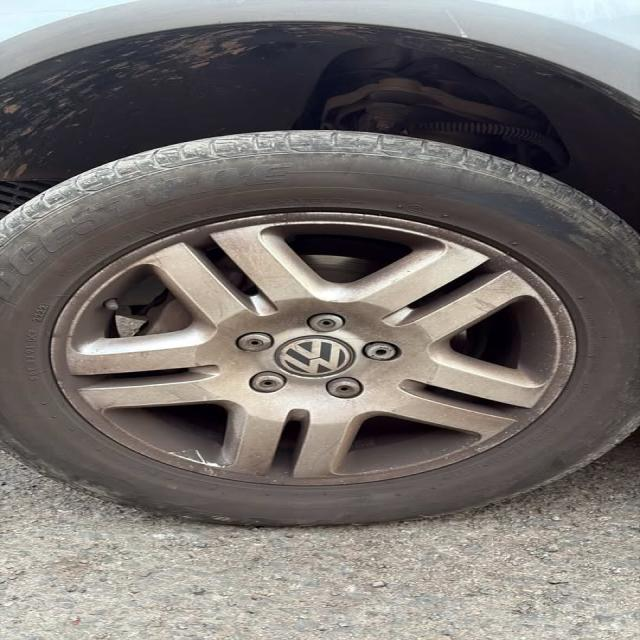jante: (44, 208, 582, 483)
parafuso: (354, 339, 408, 366), (316, 375, 374, 400), (228, 330, 280, 357), (300, 309, 352, 335), (245, 370, 290, 397)
roda: (0, 129, 640, 531)
